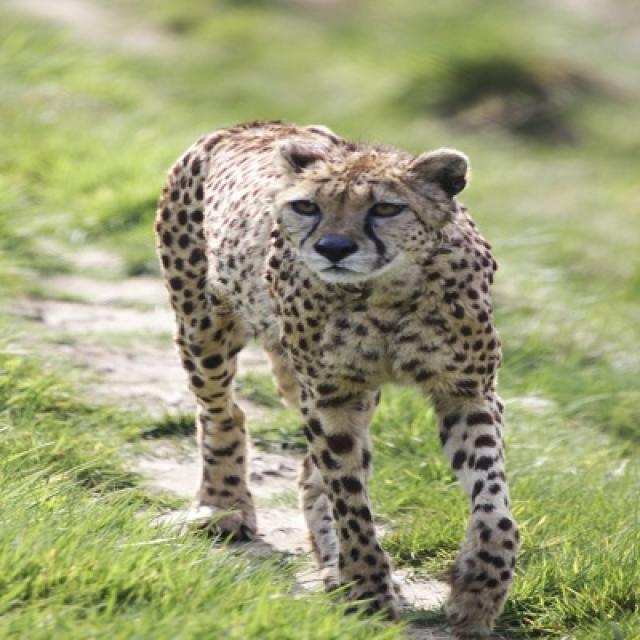Cheetah: (154, 122, 522, 638)
